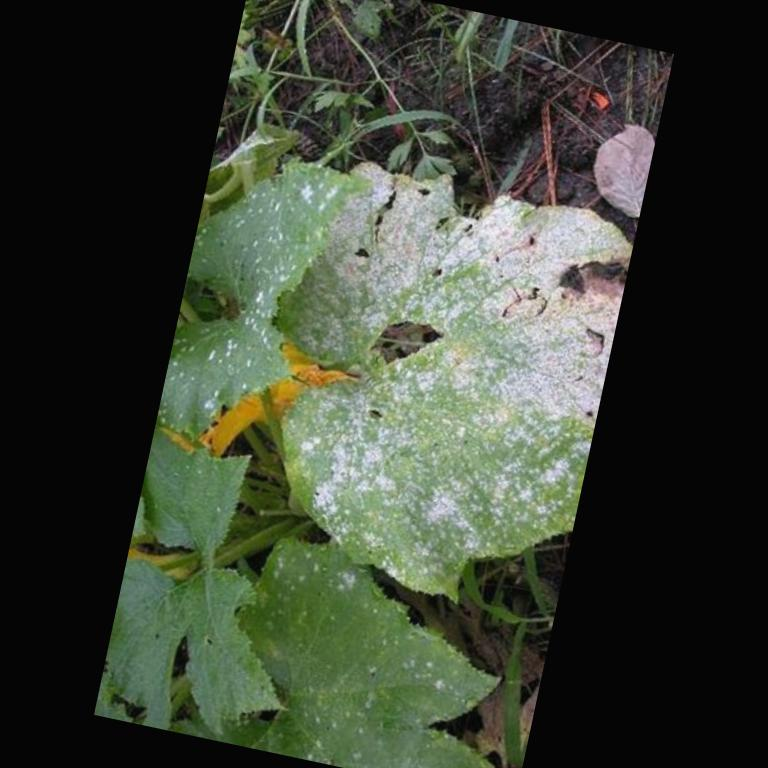powdery-mildew: (334, 356, 578, 566)
